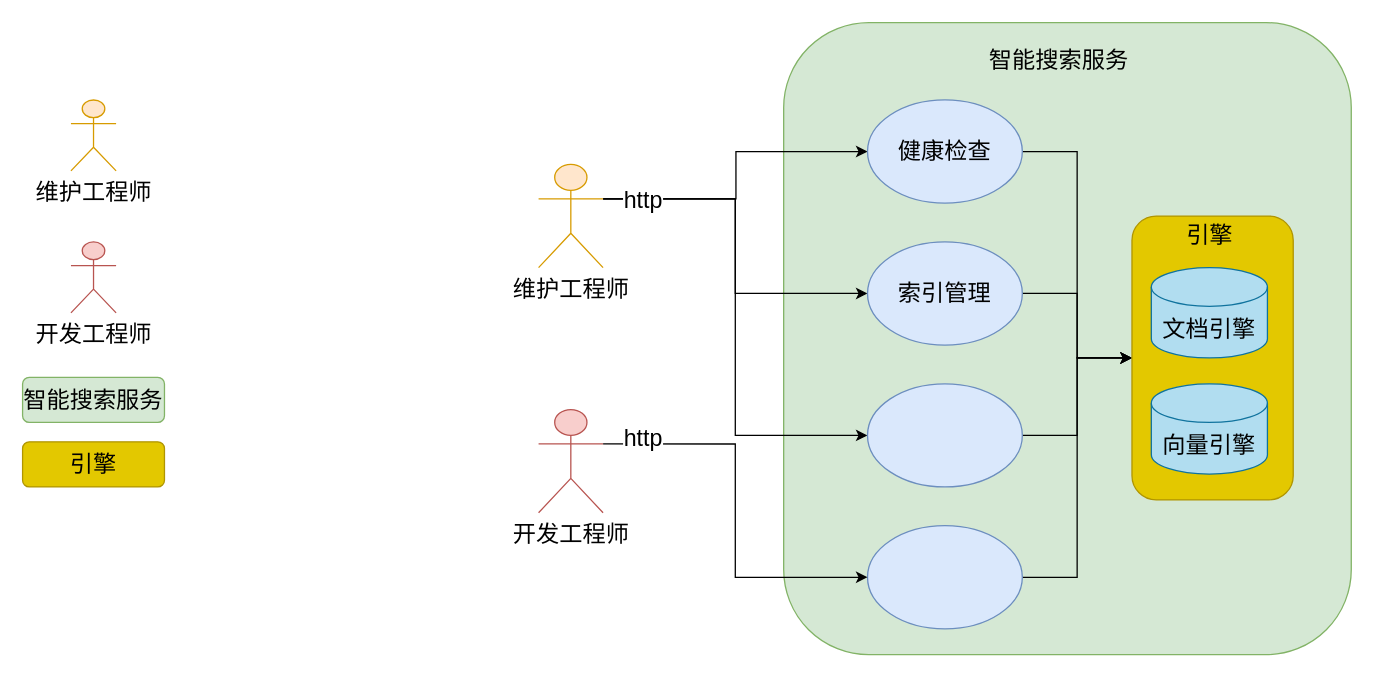
Image size: 1374x677. Some labels were removed from this diagram. Here are the shapes that lost their labels. From the top down, the centre of each, then its label:
At pixel 944 434: "数据管理".
At pixel 944 576: "检索".
